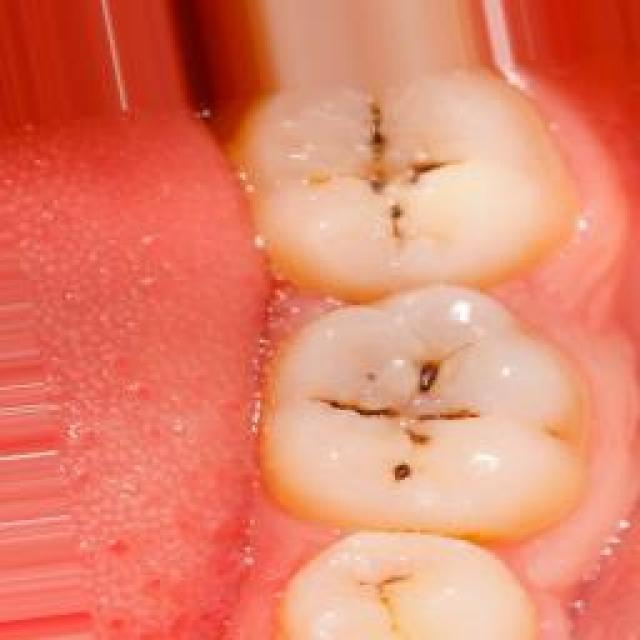caries: (308, 338, 483, 491), (345, 113, 443, 230)
